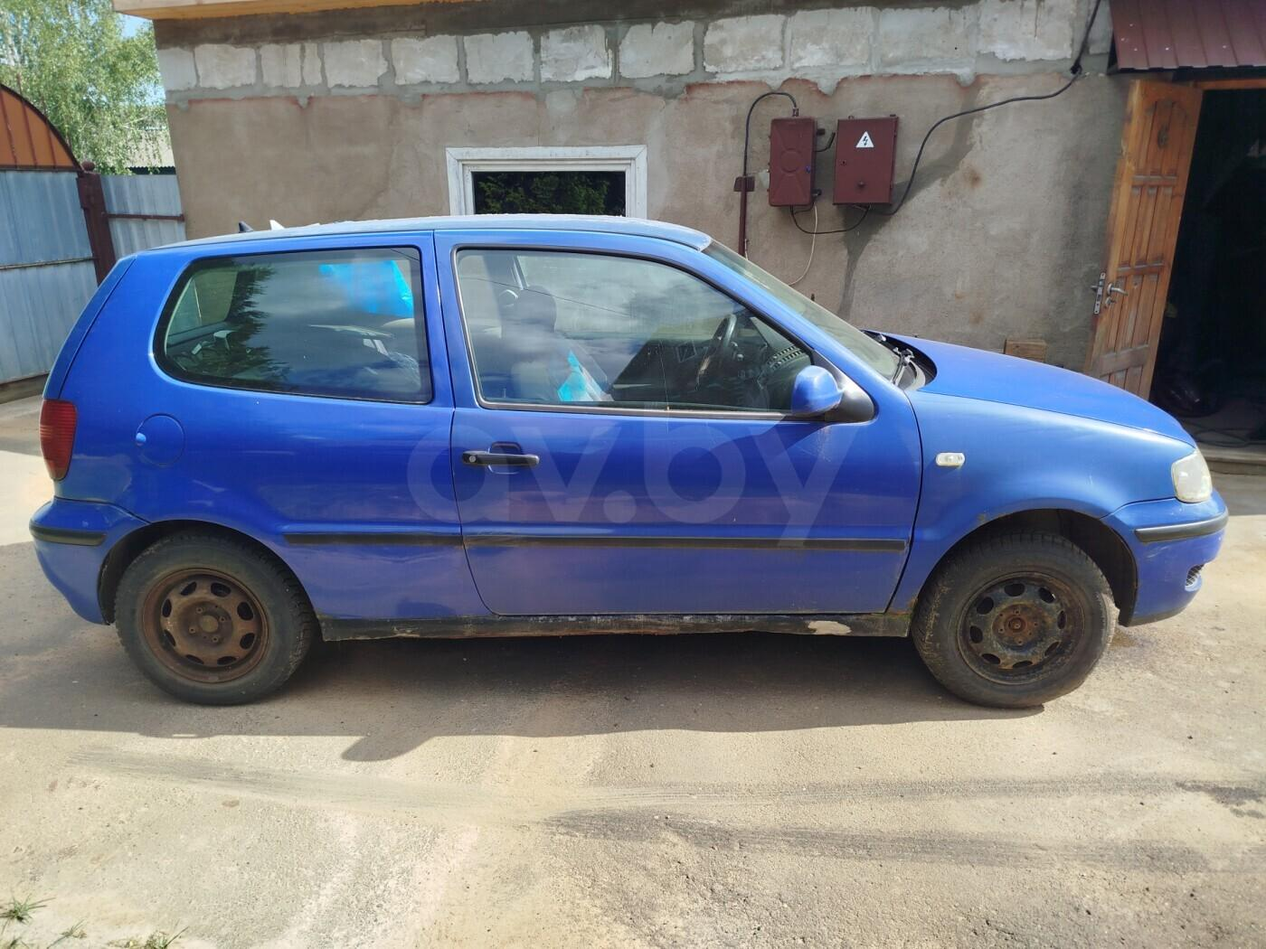Polo_2000-2002: (25, 194, 1235, 714)
